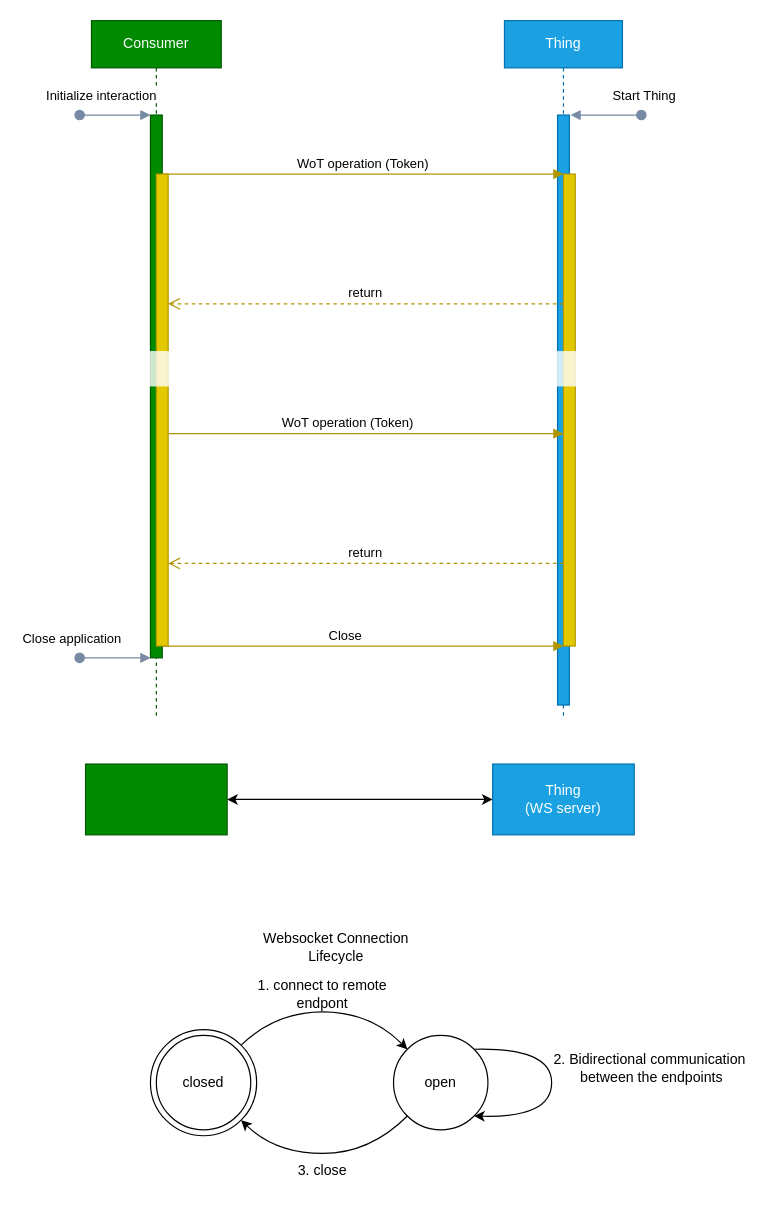
The diagram is 769 pixels wide and 1210 high, and some of its shapes have lost their labels. Here are the shapes that lost their labels. From the top down, the box of each, then its label:
(126, 350, 622, 386): wait 5 Minutes
(84, 763, 227, 835): Consumer (WS client)
